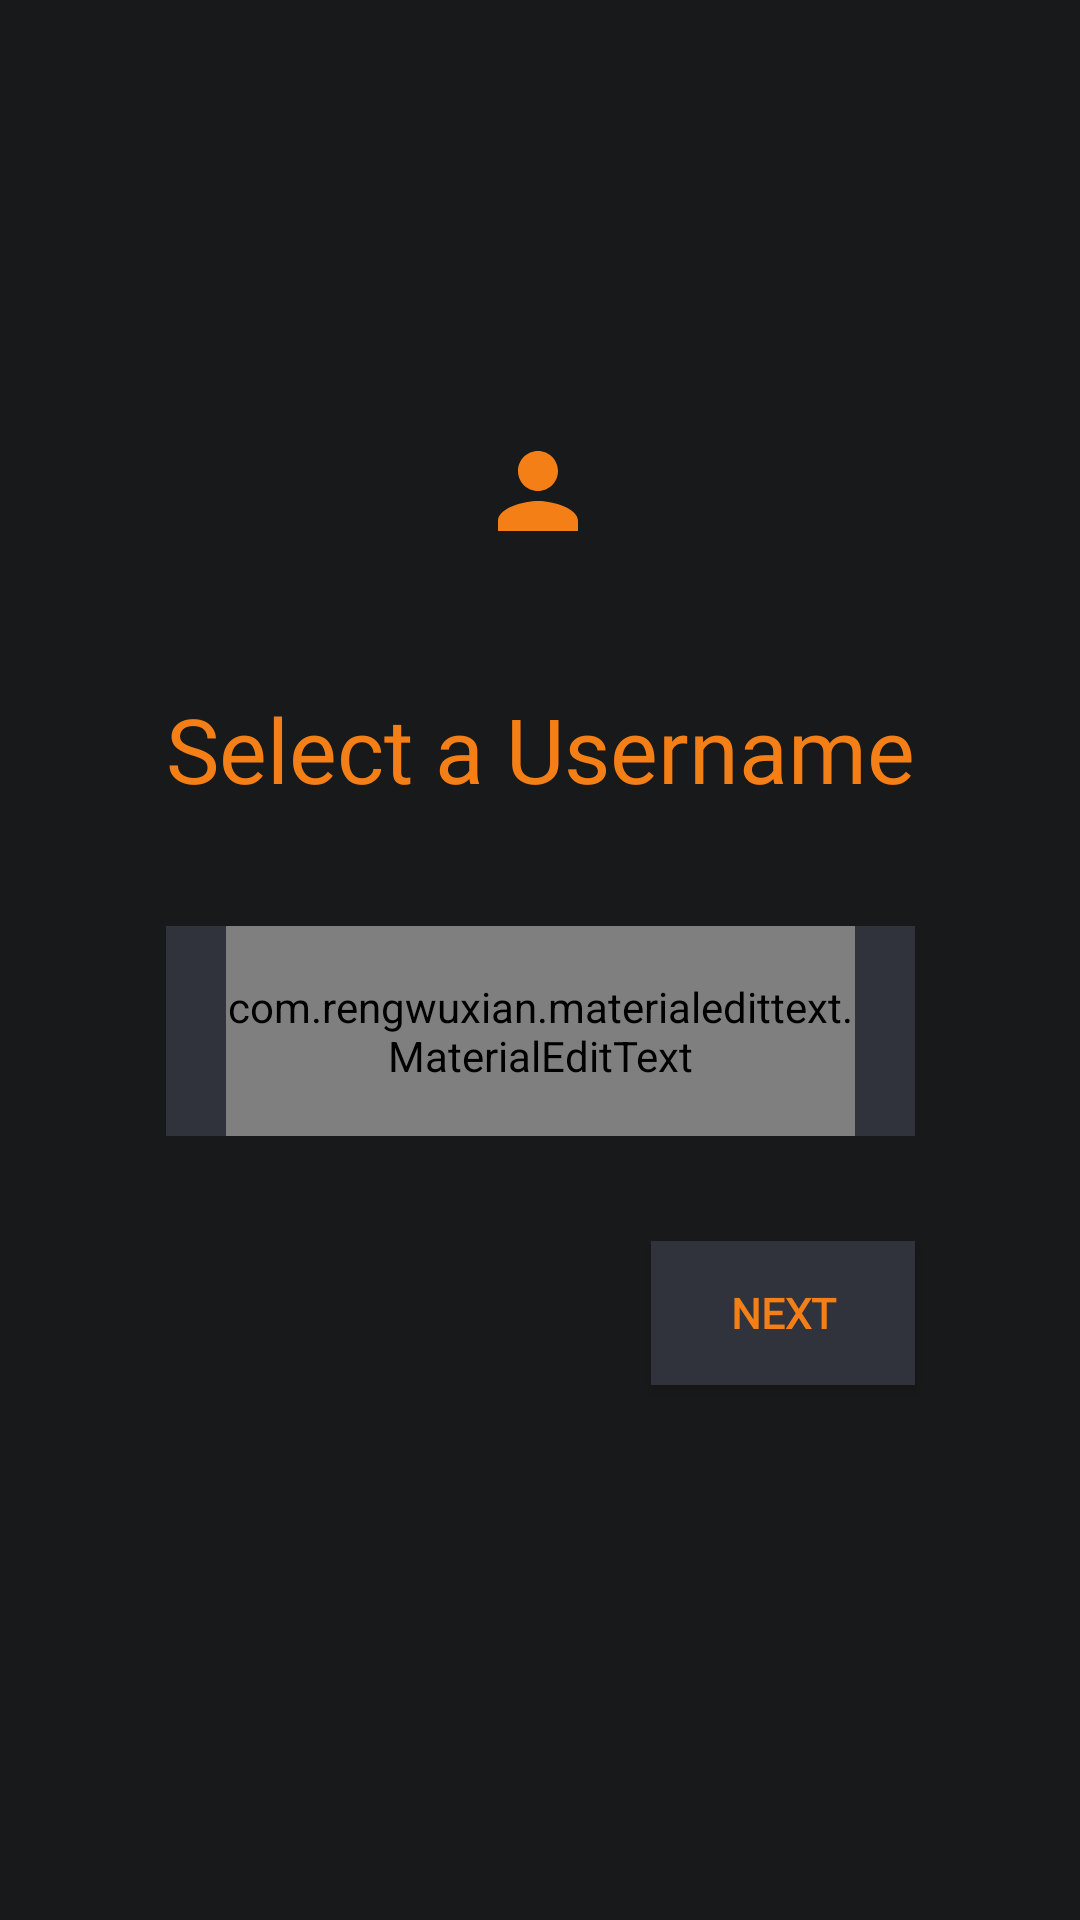

Icons on this 1080 × 1920 Android screen, each with its box as (x1,y1,x2,y2):
person: (498,451,578,531)
